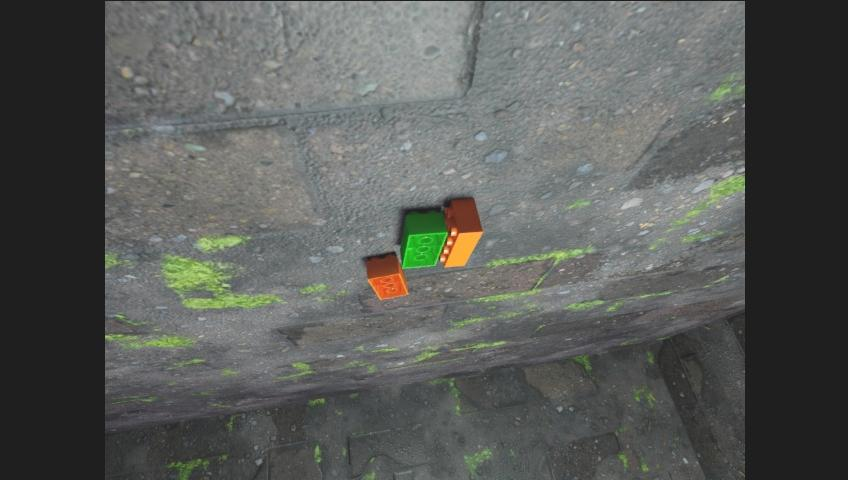4x2_green: (400, 210, 447, 268)
4x2_orange: (438, 198, 482, 267), (366, 254, 407, 299)
